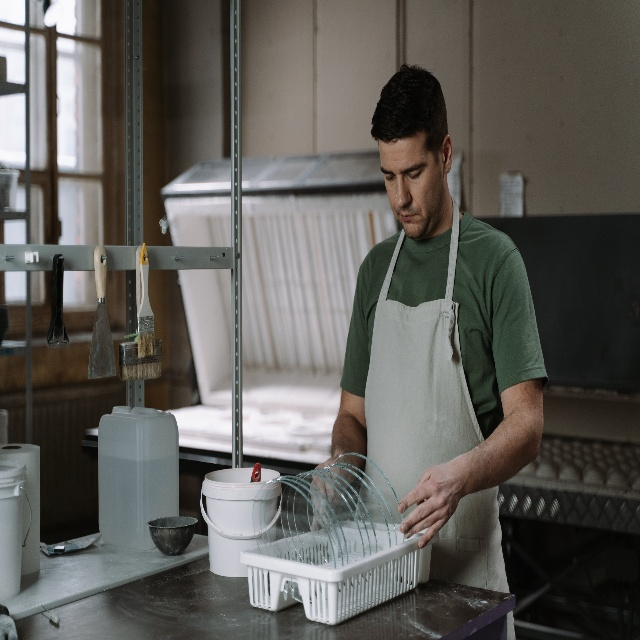Sin_guantes: (398, 462, 463, 549), (308, 455, 353, 532)
